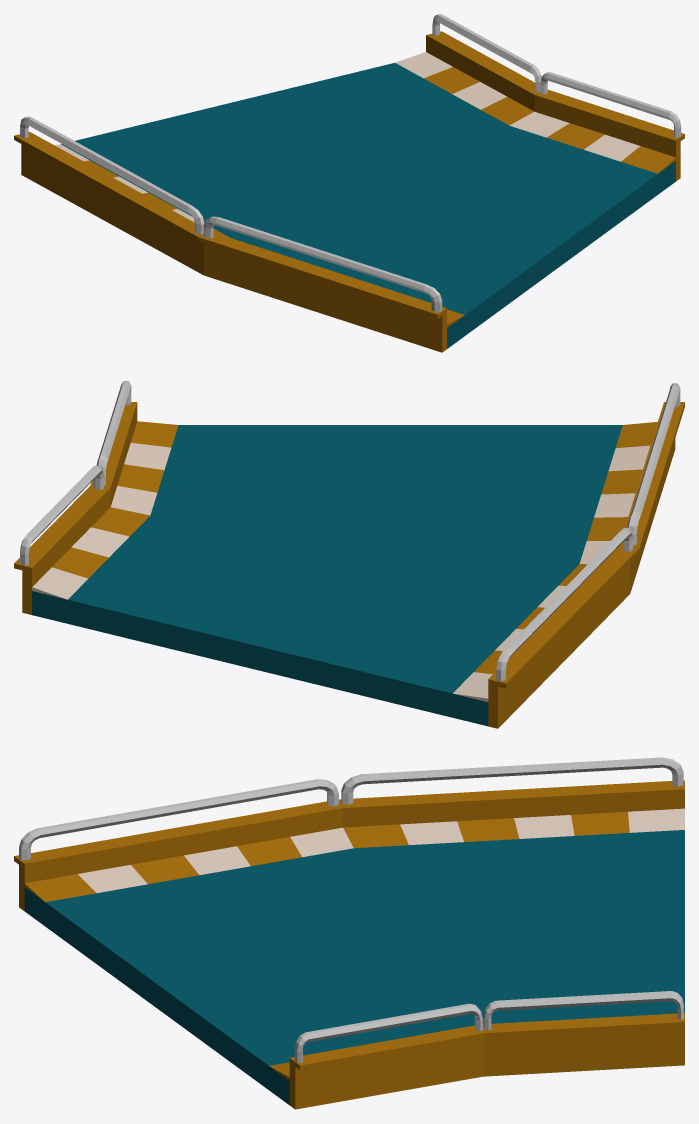
The model's file is curveLeft-30_s.FBX.
3 renders of one model, top to bottom at view 1: azimuth 30°, elevation 25°; view 2: azimuth 150°, elevation 25°; view 3: azimuth 270°, elevation 25°, orthographic. The views are drawn at different scales.
Parts seen in each view (by area): view 1: curveLeft-30_s, wall_r, wall_l, curbs_l, curbs_r; view 2: curveLeft-30_s, wall_r, curbs_l, wall_l, curbs_r; view 3: curveLeft-30_s, wall_r, wall_l, curbs_r.
Boxes of the visible parts, left/top/right/bottom form: curveLeft-30_s: left=61, top=63, right=675, bottom=348; wall_r: left=14, top=116, right=446, bottom=352; wall_l: left=426, top=14, right=684, bottom=181; curbs_l: left=395, top=52, right=675, bottom=173; curbs_r: left=54, top=144, right=464, bottom=327; curveLeft-30_s: left=32, top=425, right=622, bottom=726; wall_r: left=488, top=383, right=684, bottom=728; curbs_l: left=32, top=421, right=178, bottom=599; wall_l: left=14, top=381, right=137, bottom=614; curbs_r: left=453, top=422, right=657, bottom=701; curveLeft-30_s: left=24, top=830, right=684, bottom=1104; wall_r: left=14, top=757, right=684, bottom=910; wall_l: left=289, top=991, right=684, bottom=1109; curbs_r: left=24, top=808, right=684, bottom=902.
Size of what is drawn, in the model's own units: 244 by 29.31 by 243.
